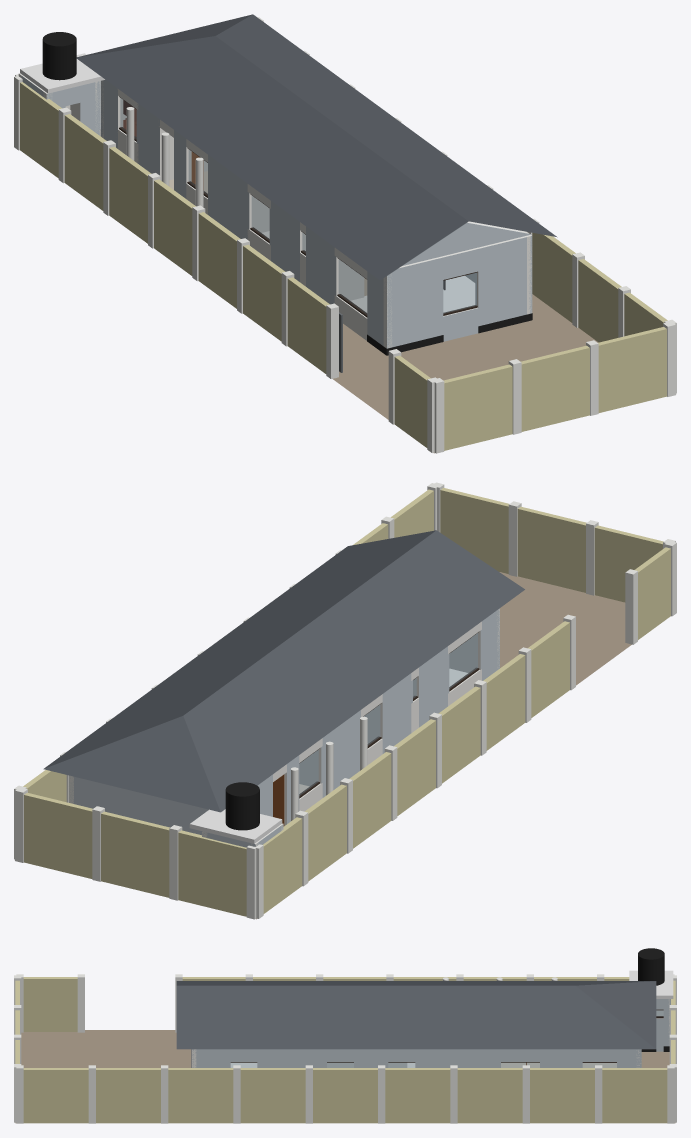
File: house.glb
The picture shows the model from 3 angles, top to bottom: view 1: azimuth 30°, elevation 25°; view 2: azimuth 150°, elevation 25°; view 3: azimuth 270°, elevation 25°; orthographic projection. The views are drawn at different scales.
Parts seen in each view (by area): view 1: plot-wall, roof, wall:bd2#1, floor:parking, wall:bd2#3, wall:living#2, wall:bd1#1, wall:kitchen#2, wall:ensuite#1, fixture:tank-owc, wall:owc#1, opening:win-bd2-s (+6 smaller); view 2: plot-wall, roof, floor:parking, wall:kitchen#3, wall:bd2#3, wall:bd1#1, wall:living#2, wall:ensuite#1, fixture:tank-owc, slab:owc, opening:win-bd2-w, wall:bd2#1 (+1 smaller); view 3: plot-wall, roof, floor:parking, wall:hall#1, wall:living#1, wall:bd2#2, wall:kitchen#1, fixture:tank-owc, wall:owc#2, slab:owc, floor:walk-n.
Boxes of the visible parts, x1,y1,x2,y2 form: plot-wall: (14,17,676,453); roof: (76,14,557,280); wall:bd2#1: (383,233,532,355); floor:parking: (338,312,598,414); wall:bd2#3: (322,238,392,355); wall:living#2: (150,113,227,228); wall:bd1#1: (227,169,288,271); wall:kitchen#2: (101,79,152,172); wall:ensuite#1: (289,214,322,298); fixture:tank-owc: (42,32,76,80); wall:owc#1: (43,81,100,135); opening:win-bd2-s: (443,271,477,315); plot-wall: (14,482,676,919); roof: (43,530,524,812); floor:parking: (499,572,626,679); wall:kitchen#3: (69,776,208,835); wall:bd2#3: (435,608,499,713); wall:bd1#1: (340,680,401,779); wall:living#2: (263,723,343,825); wall:ensuite#1: (402,656,435,739); fixture:tank-owc: (225,782,259,830); slab:owc: (189,809,282,843); opening:win-bd2-w: (449,632,479,691); wall:bd2#1: (449,608,499,672); plot-wall: (14,974,676,1123); roof: (176,981,656,1049); floor:parking: (21,1032,190,1067); wall:hall#1: (293,1049,441,1067); wall:living#1: (437,1049,563,1067); wall:bd2#2: (192,1049,297,1067); wall:kitchen#1: (558,1049,641,1067); fixture:tank-owc: (638,948,664,985); wall:owc#2: (641,999,670,1051); slab:owc: (629,970,673,998); floor:walk-n: (641,1051,669,1067).
Bounding box in the file's own units: 9.1 × 4.38 × 27.1.
